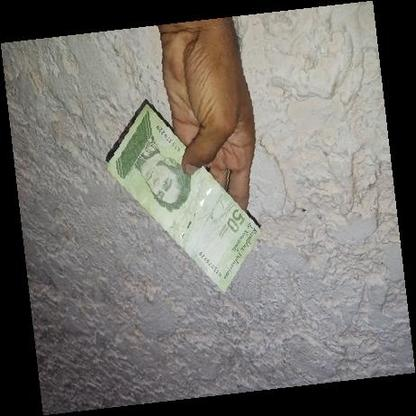fifty-front-vef: (106, 101, 260, 295)
